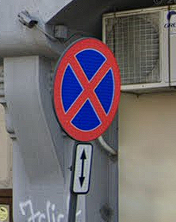oprirea_interzisa: (54, 37, 121, 142)
